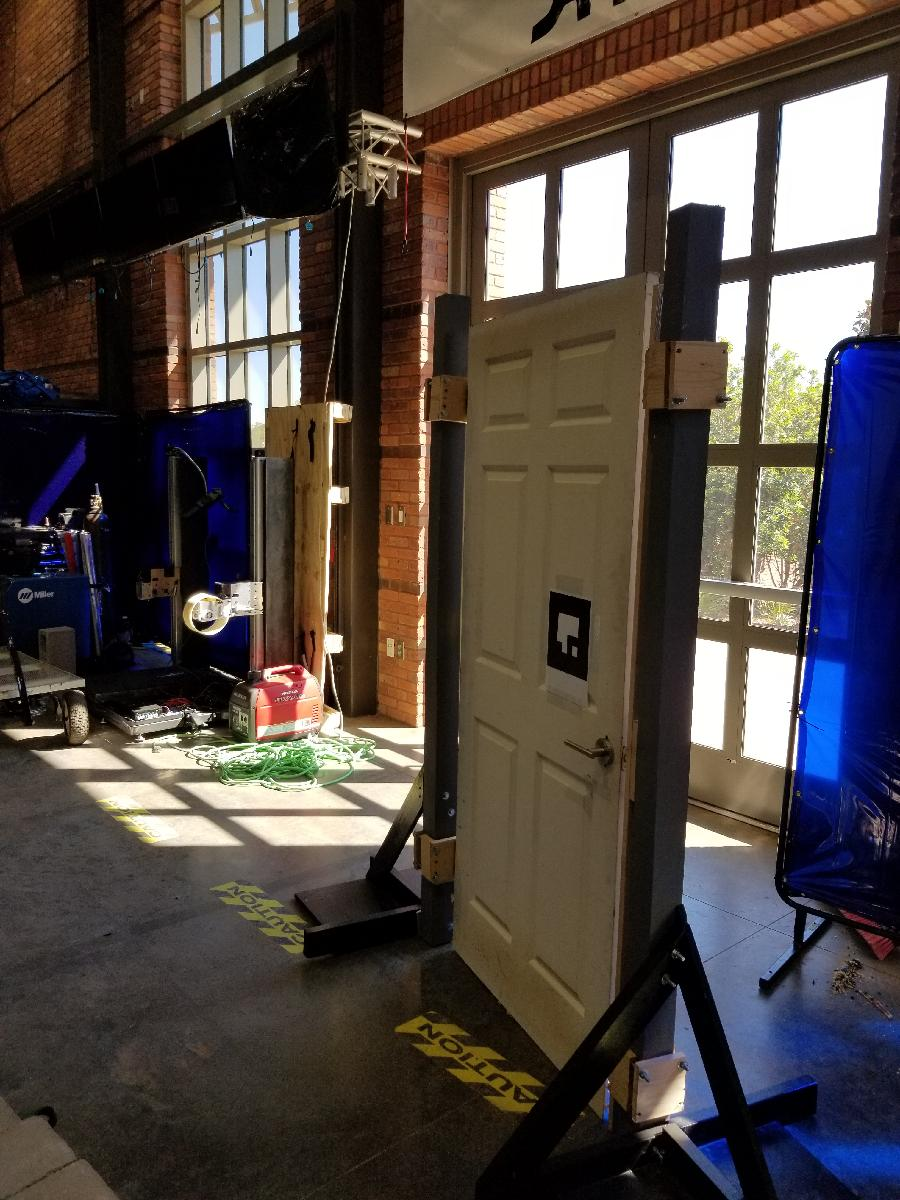door: (448, 266, 659, 1128)
doorHandle: (560, 728, 616, 774)
